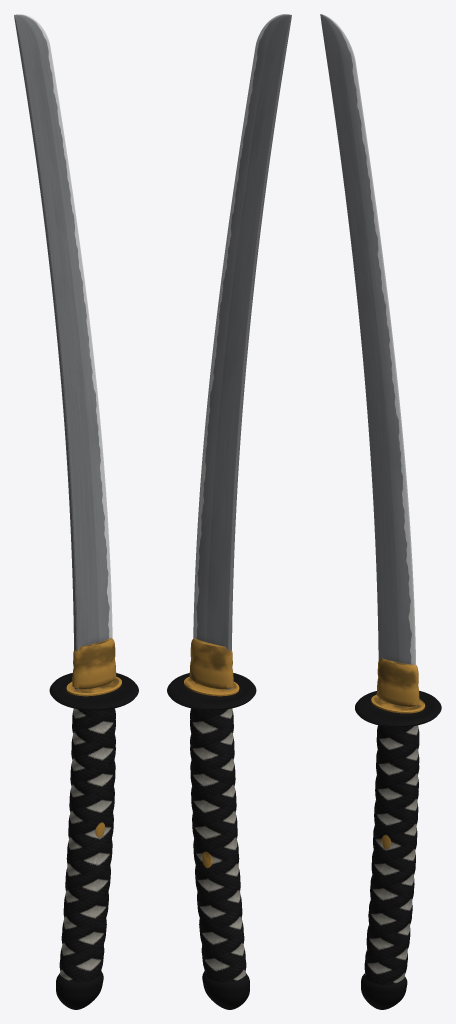
Rendered from katana_hd.glb.
3 renders of one model, left to right at view 1: azimuth 30°, elevation 25°; view 2: azimuth 150°, elevation 25°; view 3: azimuth 330°, elevation 25°, orthographic. The views are drawn at different scales.
Visible parts, largest first — view 1: Weapon; view 2: Weapon; view 3: Weapon.
Boxes of the visible parts, left/top/right/bottom form: Weapon: left=14, top=14, right=138, bottom=1009; Weapon: left=167, top=14, right=291, bottom=1009; Weapon: left=320, top=14, right=441, bottom=1009.
Bounding box in the file's own units: 0.129 × 1.05 × 0.084.
Materials: 1 (1 with a texture image).
